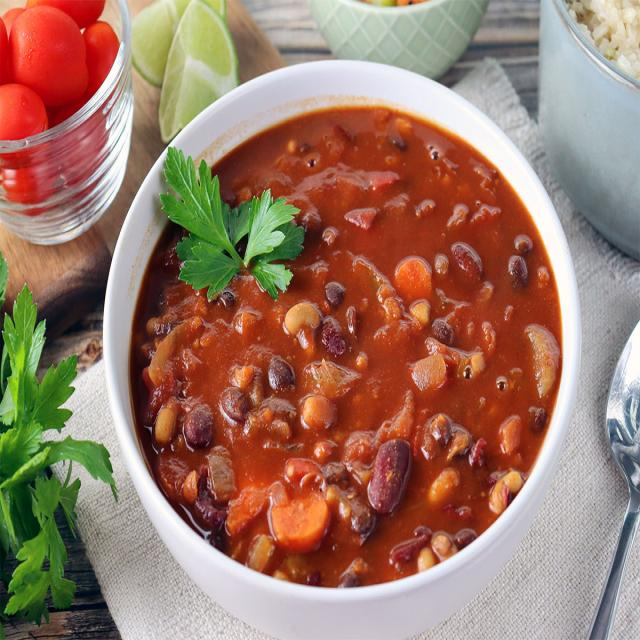frijoles: (127, 73, 568, 597)
